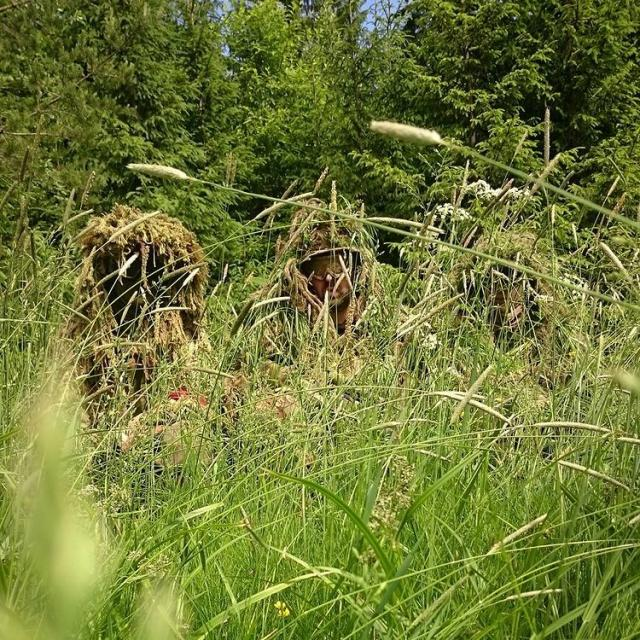Camouflage: (55, 203, 221, 429), (227, 198, 428, 367), (452, 249, 559, 358)
